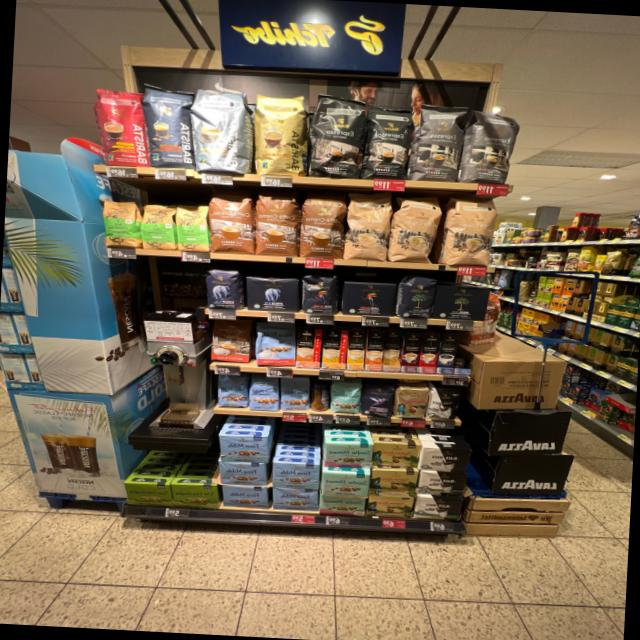AB Bohne: (205, 269, 244, 311)
AB Gemahlen: (245, 275, 301, 313)
Athiopien Bohne: (102, 199, 141, 249)
Athiopien Gemahlen: (175, 204, 212, 254), (140, 204, 178, 251)
BM Bohne: (396, 275, 437, 319)
BM Gemahlen: (432, 284, 491, 322)
BW Bohne: (424, 388, 465, 420)
BW Gemahlen: (411, 495, 467, 522), (419, 446, 473, 473), (416, 471, 470, 497)
Barista CB: (251, 91, 311, 177)
Barista CC: (190, 87, 255, 177)
Barista Espresso: (140, 84, 199, 171)
Barista Kolumbien: (88, 89, 154, 168)
C Fino Bohne: (359, 383, 395, 420)
CC Mild: (438, 195, 501, 268), (387, 194, 445, 265), (342, 190, 393, 263)
CC Vollmundig: (207, 320, 253, 365)
CC Vollmundig 36 Pads: (251, 192, 300, 257), (206, 191, 255, 256), (298, 195, 346, 261)
Colombia BB Bohne: (394, 387, 429, 419)
Colombia BB Gemahlen: (372, 442, 422, 469), (366, 494, 415, 519), (370, 469, 419, 493)
Espresso Aromatisch: (459, 108, 522, 185), (407, 105, 468, 184)
Espresso Kraftig: (307, 92, 371, 180), (360, 105, 418, 181)
FM 36 Pads: (252, 320, 297, 368)
FM Bohne: (248, 374, 280, 412), (215, 374, 249, 409), (279, 378, 311, 412)
FM Gemahlen: (271, 460, 320, 490), (218, 435, 270, 463), (216, 460, 268, 487), (219, 484, 271, 509), (271, 487, 319, 512)
FM Instant: (309, 382, 330, 411)
Herzhatfe Mundig: (169, 483, 218, 510), (121, 481, 172, 506)
LG Bohne: (301, 274, 341, 316)
LG Gemahlen: (341, 281, 398, 317)
SM Bohne: (329, 381, 362, 415)
SM Gemahlen: (321, 470, 370, 498), (324, 441, 374, 468), (319, 494, 367, 518)
Simo CCMild: (322, 328, 349, 370)
Simo CCMild bigpack: (346, 329, 366, 370)
Simo CCVollmundig: (296, 327, 323, 369)
Simo CCVollmundig bigpack: (365, 330, 386, 371)
Simo Decaff: (382, 329, 403, 372)
Simo Es Brazil: (419, 331, 442, 374)
Simo Es Caramel: (400, 332, 423, 373)
Simo Es Kraft: (436, 333, 460, 374)
